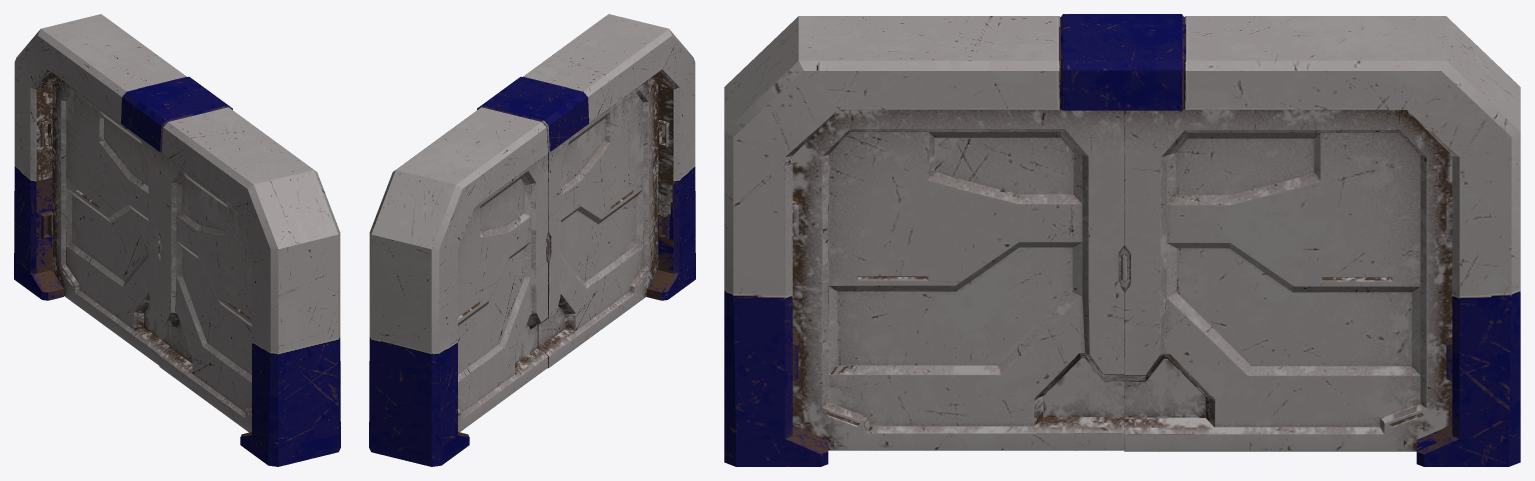
Rendered from Door_big.fbx.
3 renders of one model, left to right at view 1: azimuth 30°, elevation 25°; view 2: azimuth 150°, elevation 25°; view 3: azimuth 270°, elevation 25°, orthographic. The views are drawn at different scales.
Visible parts, largest first — view 1: Empty; view 2: Empty; view 3: Empty.
Boxes of the visible parts, x1,y1,x2,y2 form: Empty: [14, 14, 340, 466]; Empty: [369, 14, 695, 466]; Empty: [724, 14, 1520, 466].
Size of the model in its own units: 87.6 by 299 by 536.
1 material, 1 textured.
